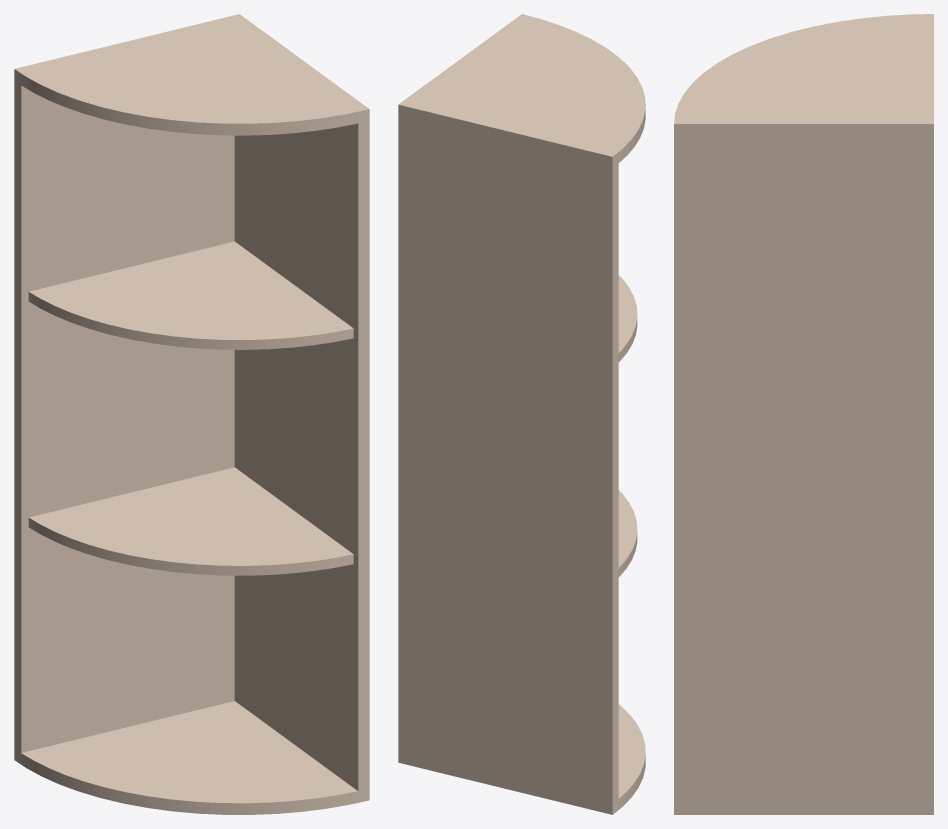
The picture shows the model from 3 angles, left to right: view 1: azimuth 30°, elevation 25°; view 2: azimuth 150°, elevation 25°; view 3: azimuth 270°, elevation 25°; orthographic projection. The views are drawn at different scales.
Parts seen in each view (by area): view 1: Body; view 2: Body; view 3: Body.
Boxes of the visible parts, x1=… form: Body: x1=14, y1=14, x2=369, y2=814; Body: x1=398, y1=14, x2=645, y2=814; Body: x1=674, y1=14, x2=933, y2=814.
Size of the model in its own units: 0.3 by 0.88 by 0.3.
